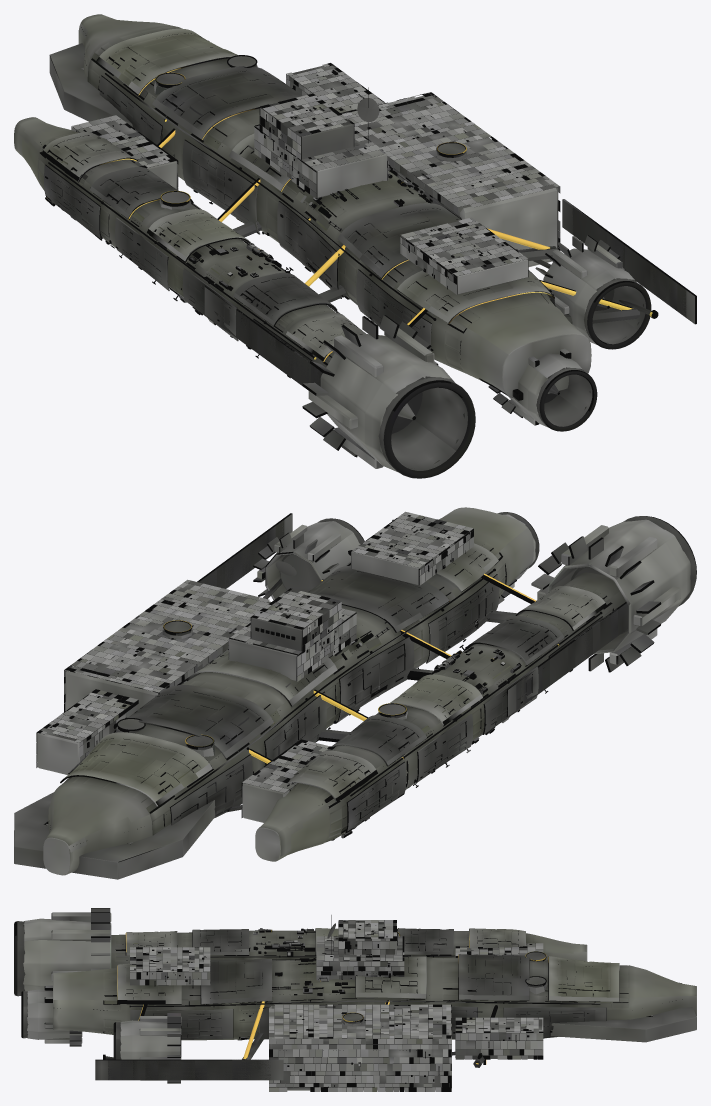
The model's file is iron_jackal_hero.glb.
3 renders of one model, top to bottom at view 1: azimuth 30°, elevation 25°; view 2: azimuth 150°, elevation 25°; view 3: azimuth 270°, elevation 25°, orthographic. The views are drawn at different scales.
Parts seen in each view (by area): view 1: HullBaked; view 2: HullBaked; view 3: HullBaked.
Boxes of the visible parts, x1,y1,x2,y2 form: HullBaked: (14,14,696,478); HullBaked: (14,507,696,879); HullBaked: (14,908,696,1091).
Bounding box in the file's own units: 142 × 72.44 × 308.
Materials: 1 (1 with a texture image).
